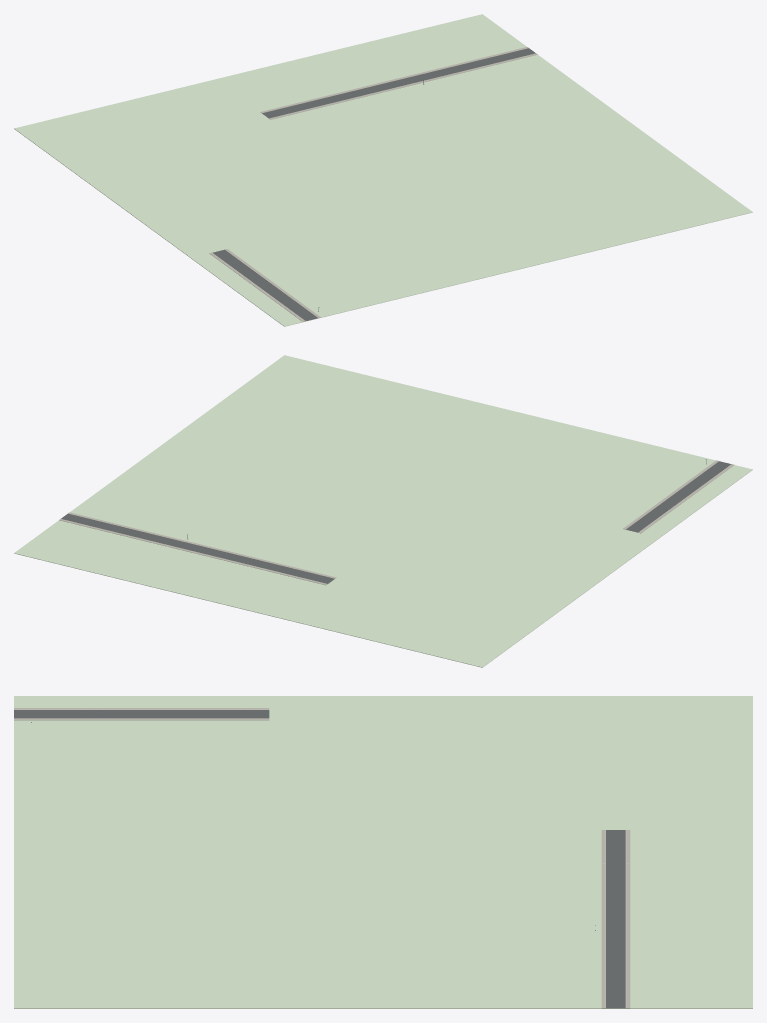
The model's file is chunk_4_4_high.glb.
3 views of the same model, one above another, from view 1: azimuth 30°, elevation 25°; view 2: azimuth 150°, elevation 25°; view 3: azimuth 270°, elevation 25° (orthographic). The views are drawn at different scales.
Parts seen in each view (by area): view 1: city_grass, city_world_asphalt, city_world_sidewalk, city_curb; view 2: city_grass, city_world_asphalt, city_world_sidewalk, city_curb; view 3: city_grass, city_world_asphalt, city_world_sidewalk, city_curb.
Part boxes in pixels (x1,y1,x2,y2): city_grass: [14, 14, 752, 326]; city_world_asphalt: [212, 48, 535, 320]; city_world_sidewalk: [209, 47, 537, 321]; city_curb: [213, 48, 535, 320]; city_grass: [14, 355, 752, 667]; city_world_asphalt: [61, 461, 731, 583]; city_world_sidewalk: [59, 460, 734, 585]; city_curb: [61, 461, 731, 583]; city_grass: [14, 696, 752, 1008]; city_world_asphalt: [14, 710, 625, 1008]; city_world_sidewalk: [14, 708, 630, 1008]; city_curb: [14, 708, 629, 1007].
Bounding box in the file's own units: 512 × 5.41 × 512.
